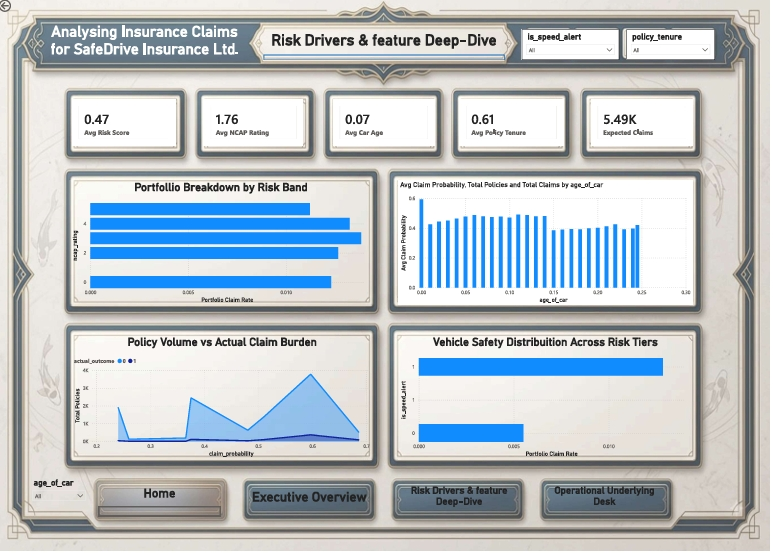

The page's visual inventory and layout, read from the dashboard file:
{"tool":"powerbi","page":{"name":"Risk Drivers & feature Deep-Dive","canvas":[1900,1360],"ordinal":1},"visuals":[{"type":"cardVisual","fields":{"Data":["all_predictions_bi_analysis.Avg Risk Score"]},"box":[184.6,249.9,255.6,113.6],"z":0},{"type":"cardVisual","fields":{"Data":["all_predictions_bi_analysis.Avg NCAP Rating"]},"box":[508.4,249.9,244.2,113.6],"z":1000},{"type":"cardVisual","fields":{"Data":["all_predictions_bi_analysis.Avg Car Age"]},"box":[826.5,249.9,249.9,113.6],"z":2000},{"type":"cardVisual","fields":{"Data":["all_predictions_bi_analysis.Avg Policy Tenure"]},"box":[1136,249.9,255.6,113.6],"z":3000},{"type":"cardVisual","fields":{"Data":["all_predictions_bi_analysis.Expected Claims"]},"box":[1459.8,249.9,249.9,113.6],"z":4000},{"type":"clusteredBarChart","title":"Portfollio Breakdown by Risk Band","fields":{"Category":["all_predictions_bi_analysis.ncap_rating"],"Y":["all_predictions_bi_analysis.Portfolio Claim Rate"]},"box":[178.9,448.7,744.1,306.7],"z":5000},{"type":"areaChart","title":"Policy Volume vs Actual Claim Burden","fields":{"Y":["all_predictions_bi_analysis.Total Policies"],"Category":["all_predictions_bi_analysis.claim_probability"],"Series":["all_predictions_bi_analysis.actual_outcome"]},"box":[184.6,829.3,738.4,303.9],"z":6000},{"type":"clusteredBarChart","title":"Vehicle Safety Distribuition Across Risk Tiers","fields":{"Category":["all_predictions_bi_analysis.is_speed_alert"],"Y":["all_predictions_bi_analysis.Portfolio Claim Rate"]},"box":[985.5,829.3,724.2,303.9],"z":7000},{"type":"clusteredColumnChart","fields":{"Category":["all_predictions_bi_analysis.age_of_car"],"Y":["all_predictions_bi_analysis.Avg Claim Probability"]},"box":[985.5,448.7,724.2,306.7],"z":8000},{"type":"actionButton","box":[0,0,100,40],"z":9000},{"type":"shape","title":"Risk Drivers & feature Deep-Dive","box":[656.1,82.4,590.7,71],"z":10000},{"type":"actionButton","title":"Executive Overview","box":[619.1,1207,298.2,56.8],"z":11000},{"type":"actionButton","title":"Risk Drivers & feature Deep-Dive","box":[982.7,1195.7,306.7,76.7],"z":12000},{"type":"actionButton","title":"Home","box":[249.9,1198.5,299.8,75],"z":13000},{"type":"actionButton","title":"Operational Underlying  Desk","box":[1343.3,1195.7,299.8,75],"z":14000},{"type":"slicer","fields":{"Values":["all_predictions_bi_analysis.is_speed_alert"]},"box":[1290.4,77.6,238.3,75],"z":15000},{"type":"slicer","fields":{"Values":["all_predictions_bi_analysis.policy_tenure"]},"box":[1547.4,77.6,216.9,75],"z":16000},{"type":"slicer","fields":{"Values":["all_predictions_bi_analysis.age_of_car"]},"box":[78,1174,150,90],"z":17000},{"type":"shape","title":"Analysing Insurance Claims for SafeDrive Insurance Ltd.","box":[107,61,512,90],"z":18000}]}

Visuals, with their boxes in screenshot pixels (x1, y1, x2, y2), scaled from the page's 1900x1360 canvas onto the 773x553 screenshot:
cardVisual - all_predictions_bi_analysis.Avg Risk Score: x1=75, y1=102, x2=179, y2=148
cardVisual - all_predictions_bi_analysis.Avg NCAP Rating: x1=207, y1=102, x2=306, y2=148
cardVisual - all_predictions_bi_analysis.Avg Car Age: x1=336, y1=102, x2=438, y2=148
cardVisual - all_predictions_bi_analysis.Avg Policy Tenure: x1=462, y1=102, x2=566, y2=148
cardVisual - all_predictions_bi_analysis.Expected Claims: x1=594, y1=102, x2=696, y2=148
"Portfollio Breakdown by Risk Band" clusteredBarChart: x1=73, y1=182, x2=376, y2=307
"Policy Volume vs Actual Claim Burden" areaChart: x1=75, y1=337, x2=376, y2=461
"Vehicle Safety Distribuition Across Risk Tiers" clusteredBarChart: x1=401, y1=337, x2=696, y2=461
clusteredColumnChart - all_predictions_bi_analysis.age_of_car x all_predictions_bi_analysis.Avg Claim Probability: x1=401, y1=182, x2=696, y2=307
actionButton: x1=0, y1=0, x2=41, y2=16
"Risk Drivers & feature Deep-Dive" shape: x1=267, y1=34, x2=507, y2=62
"Executive Overview" actionButton: x1=252, y1=491, x2=373, y2=514
"Risk Drivers & feature Deep-Dive" actionButton: x1=400, y1=486, x2=525, y2=517
"Home" actionButton: x1=102, y1=487, x2=224, y2=518
"Operational Underlying  Desk" actionButton: x1=547, y1=486, x2=668, y2=517
slicer - all_predictions_bi_analysis.is_speed_alert: x1=525, y1=32, x2=622, y2=62
slicer - all_predictions_bi_analysis.policy_tenure: x1=630, y1=32, x2=718, y2=62
slicer - all_predictions_bi_analysis.age_of_car: x1=32, y1=477, x2=93, y2=514
"Analysing Insurance Claims for SafeDrive Insurance Ltd." shape: x1=44, y1=25, x2=252, y2=61
